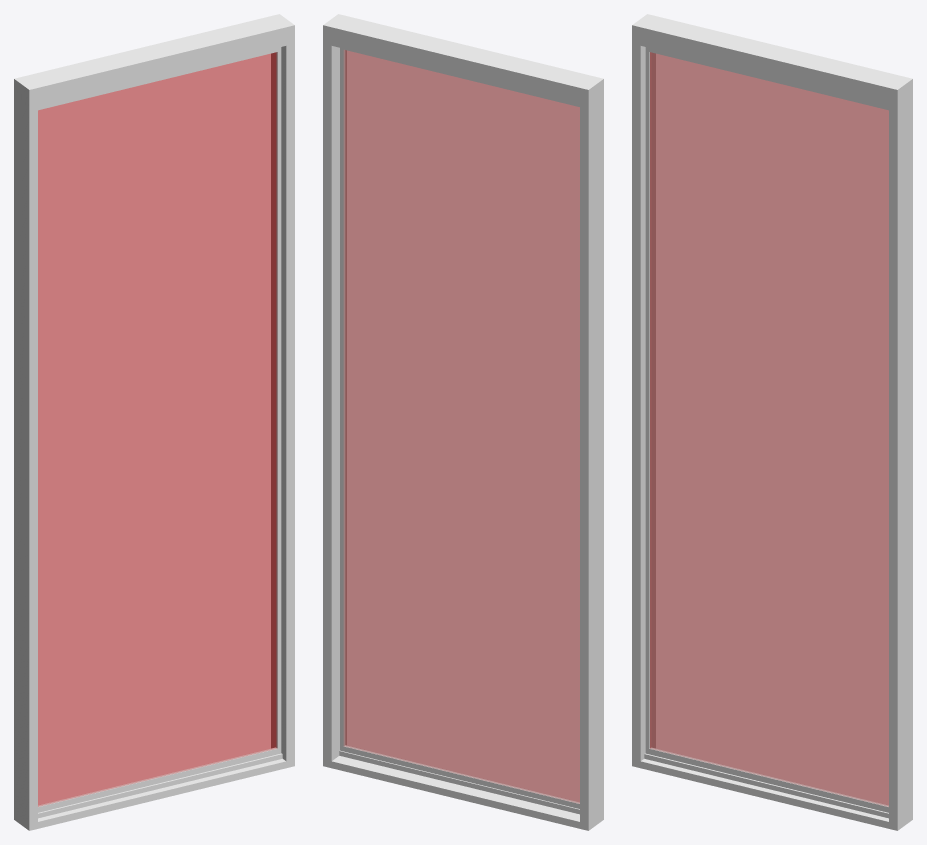
File: Glass wall 400cm.FBX
3 renders of one model, left to right at view 1: azimuth 30°, elevation 25°; view 2: azimuth 150°, elevation 25°; view 3: azimuth 330°, elevation 25°, orthographic.
Parts seen in each view (by area): view 1: Glass wall 400cm; view 2: Glass wall 400cm; view 3: Glass wall 400cm.
Boxes of the visible parts, x1=… form: Glass wall 400cm: x1=14, y1=14, x2=294, y2=830; Glass wall 400cm: x1=323, y1=14, x2=603, y2=830; Glass wall 400cm: x1=632, y1=14, x2=912, y2=830.
Size of the model in its own units: 1.5 by 4 by 0.15.
